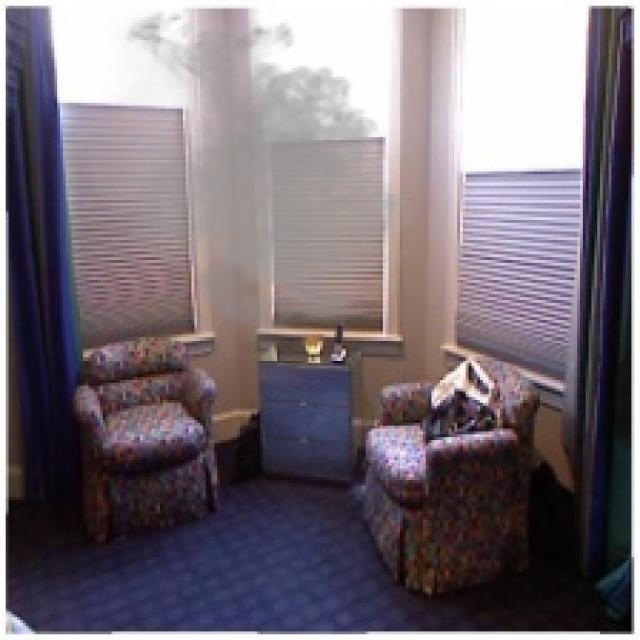Smoke: (66, 0, 426, 357)
